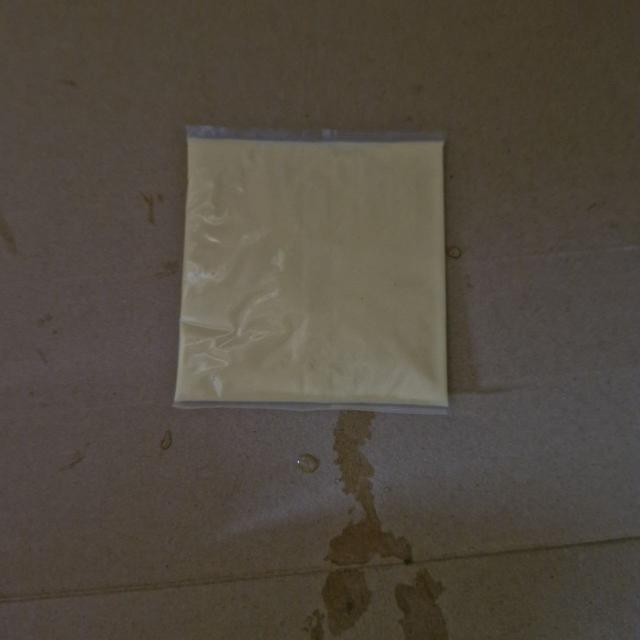food_waste: (188, 138, 444, 404)
plastic: (175, 125, 457, 419)
